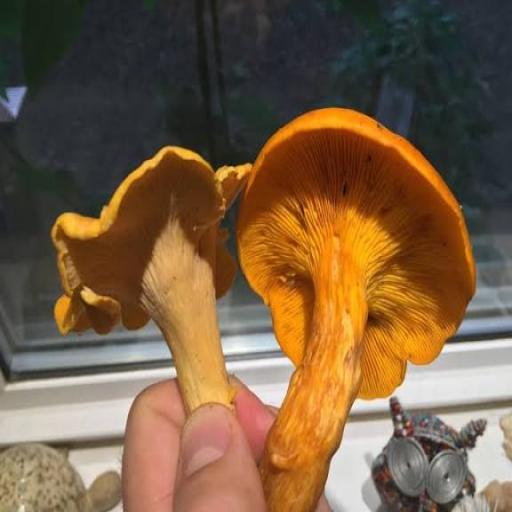Jack O Lantern Mushroom: (226, 96, 477, 512), (47, 145, 263, 429)
